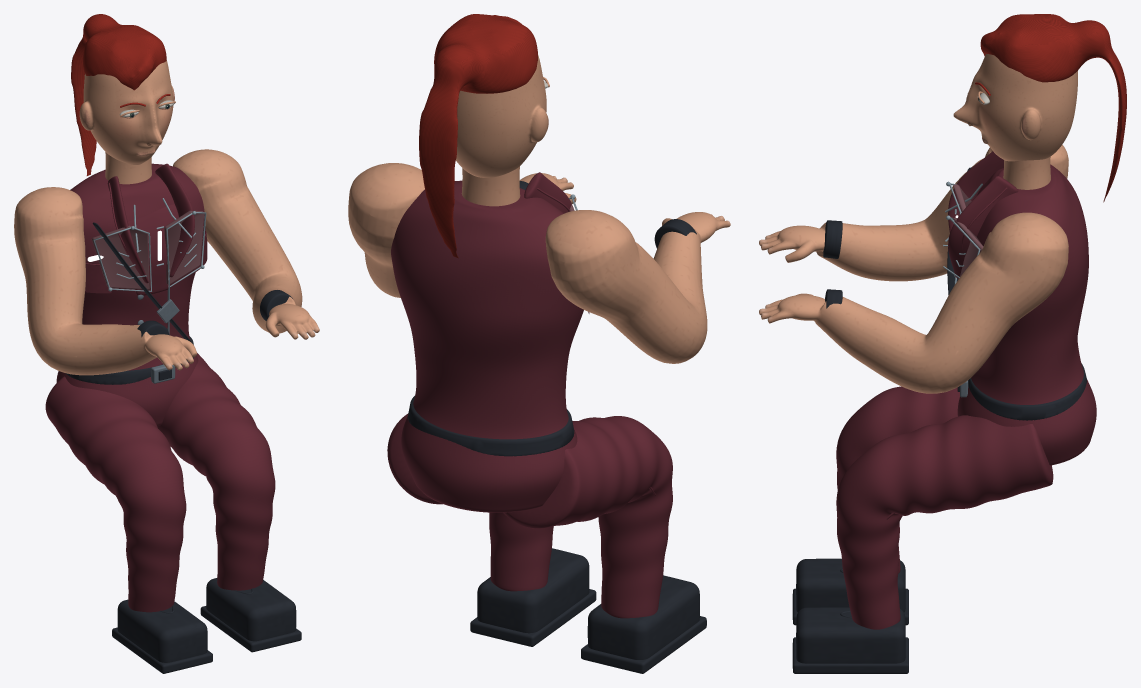
The model's file is ember.gltf.
The picture shows the model from 3 angles, left to right: view 1: azimuth 30°, elevation 25°; view 2: azimuth 150°, elevation 25°; view 3: azimuth 270°, elevation 25°; orthographic projection. The views are drawn at different scales.
Visible parts, largest first — view 1: council-asset-3-ember_Fabric, council-asset-3-ember_Skin, council-asset-3-ember_Leather, sculpted-head_Skin, sculpted-head_Hair, Oni Metal tailoring, council-asset-3-ember_Metal; view 2: council-asset-3-ember_Fabric, council-asset-3-ember_Skin, council-asset-3-ember_Leather, sculpted-head_Hair, sculpted-head_Skin; view 3: council-asset-3-ember_Fabric, council-asset-3-ember_Skin, council-asset-3-ember_Leather, sculpted-head_Skin, sculpted-head_Hair, Oni Metal tailoring.
Part boxes in pixels (x1=…): council-asset-3-ember_Fabric: x1=45, y1=163, x2=275, y2=612; council-asset-3-ember_Skin: x1=14, y1=149, x2=319, y2=375; council-asset-3-ember_Leather: x1=65, y1=222, x2=301, y2=673; sculpted-head_Skin: x1=79, y1=60, x2=174, y2=164; sculpted-head_Hair: x1=71, y1=14, x2=166, y2=175; Oni Metal tailoring: x1=91, y1=198, x2=206, y2=291; council-asset-3-ember_Metal: x1=137, y1=286, x2=179, y2=383; council-asset-3-ember_Fabric: x1=387, y1=172, x2=672, y2=618; council-asset-3-ember_Skin: x1=348, y1=163, x2=730, y2=363; council-asset-3-ember_Leather: x1=407, y1=181, x2=706, y2=673; sculpted-head_Hair: x1=419, y1=14, x2=537, y2=258; sculpted-head_Skin: x1=455, y1=55, x2=548, y2=177; council-asset-3-ember_Fabric: x1=836, y1=151, x2=1096, y2=629; council-asset-3-ember_Skin: x1=759, y1=144, x2=1068, y2=393; council-asset-3-ember_Leather: x1=792, y1=167, x2=1086, y2=673; sculpted-head_Skin: x1=953, y1=54, x2=1077, y2=161; sculpted-head_Hair: x1=980, y1=14, x2=1126, y2=202; Oni Metal tailoring: x1=943, y1=181, x2=983, y2=284.
Size of what is drawn, in the model's own units: 1.01 by 2.04 by 1.11.
7 materials, 5 textured.
